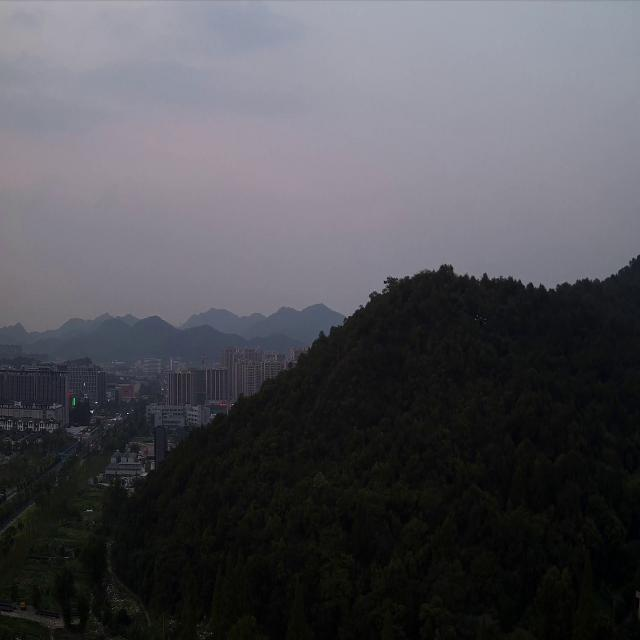drone: (474, 314, 486, 324)
